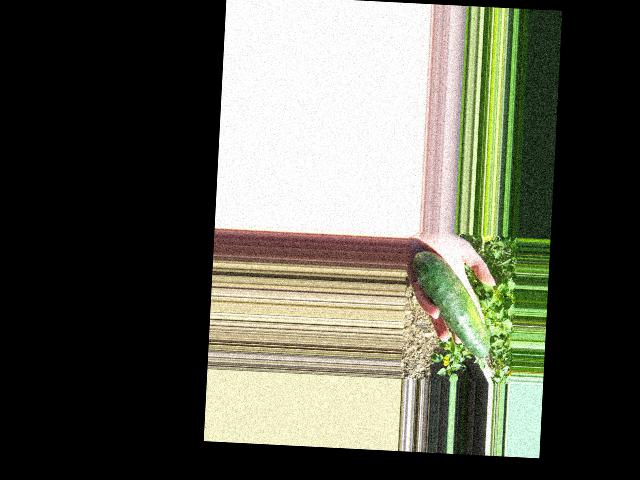cucumber: (408, 251, 493, 358)
